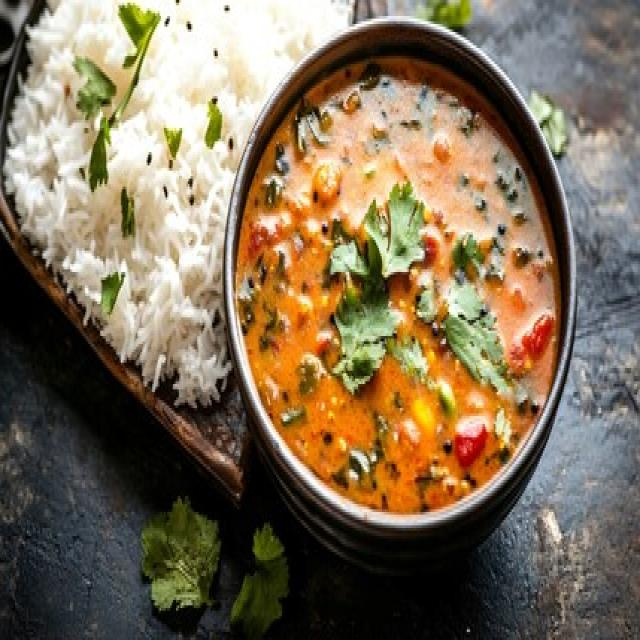RICE: (0, 1, 361, 501)
SAMBAR: (226, 17, 577, 531)
